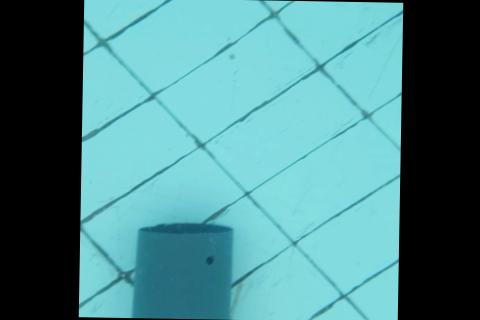kebocoran: (203, 255, 213, 265)
